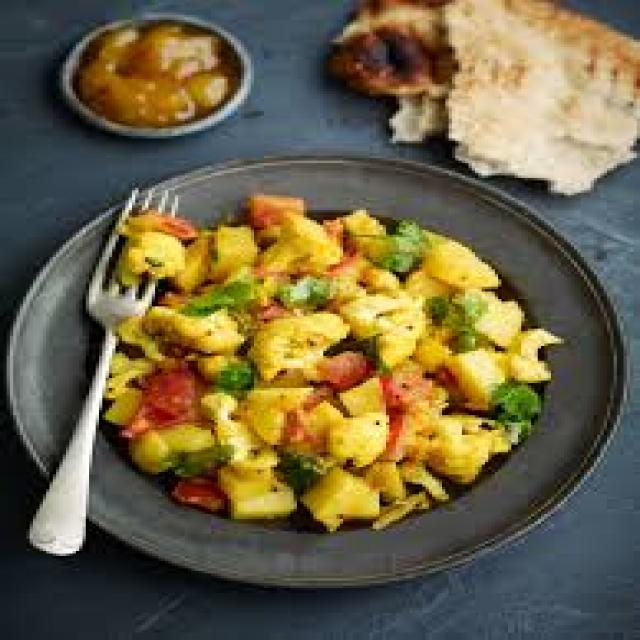Aloo Gobi: (158, 216, 516, 524)
